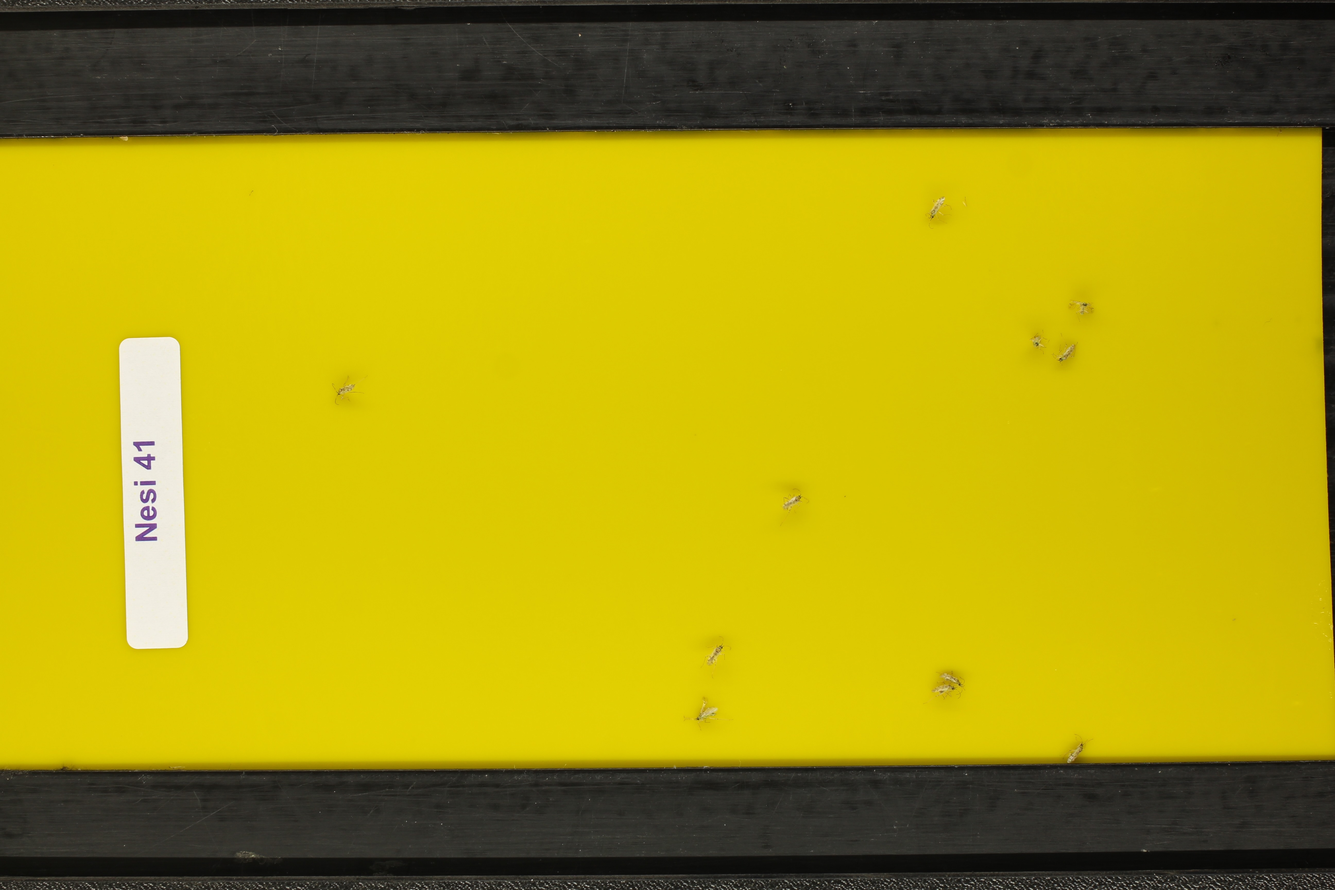NC: (684, 693, 732, 732), (697, 634, 733, 678), (773, 484, 813, 522), (1049, 330, 1084, 373), (329, 374, 369, 408), (922, 192, 952, 231), (1067, 294, 1105, 320), (1059, 734, 1091, 763), (1026, 329, 1052, 356), (935, 668, 969, 688), (929, 684, 962, 702)
